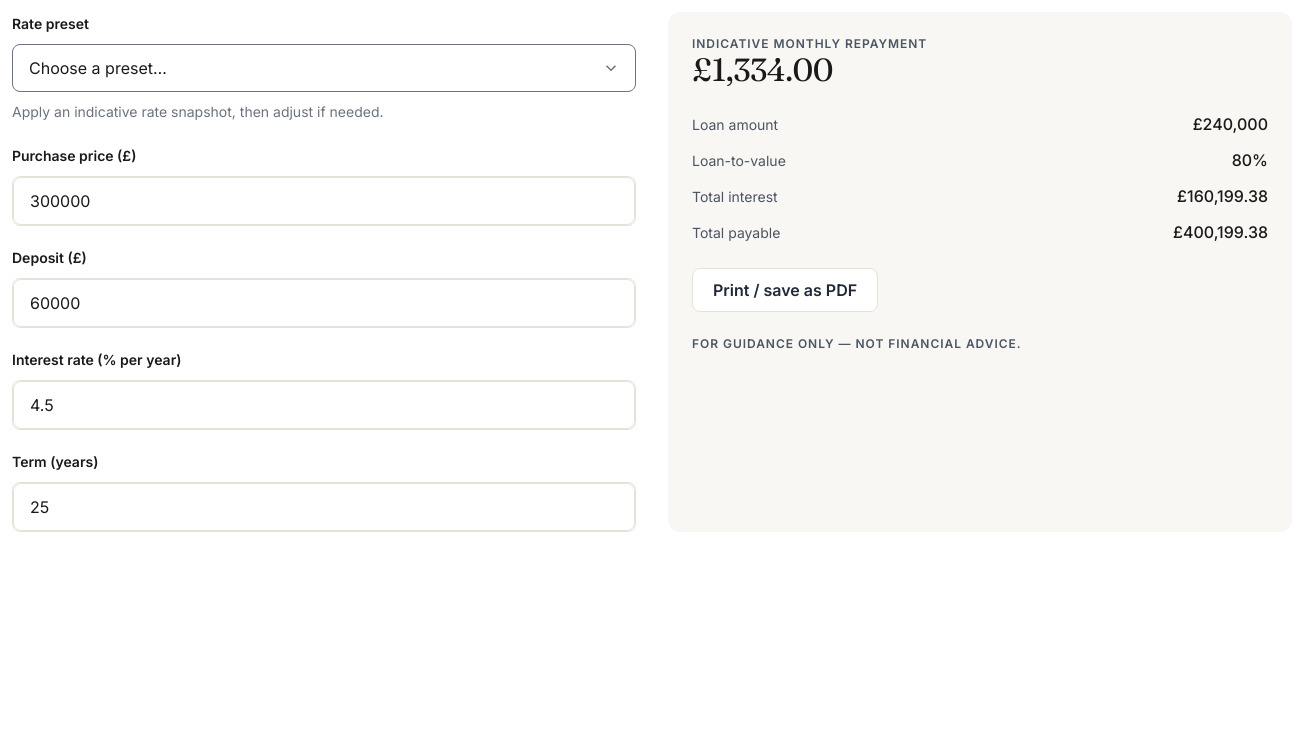
Test: MortgageCalculator preset dropdown (FR-W-8) › applies the chosen preset rate and term, recomputing the result
The width and height of the screenshot is (1292, 732).
Select "2-year fixed" in the dropdown labelled "Rate preset" at (324,68), box 12,44 -> 636,92
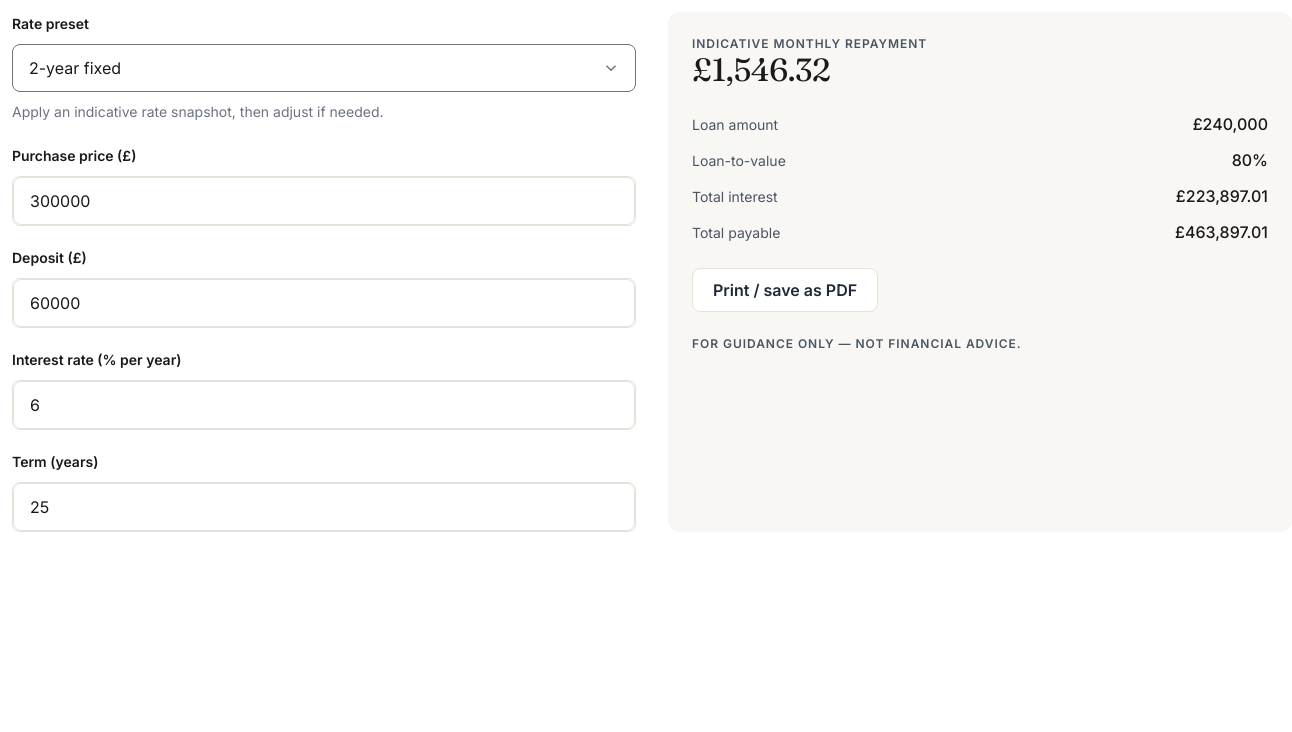
Check: the number field labelled "Term (years)" holds "25", box 13,483 -> 635,531
Check: the number field labelled "Interest rate (% per year)" holds "6", box 13,381 -> 635,429
